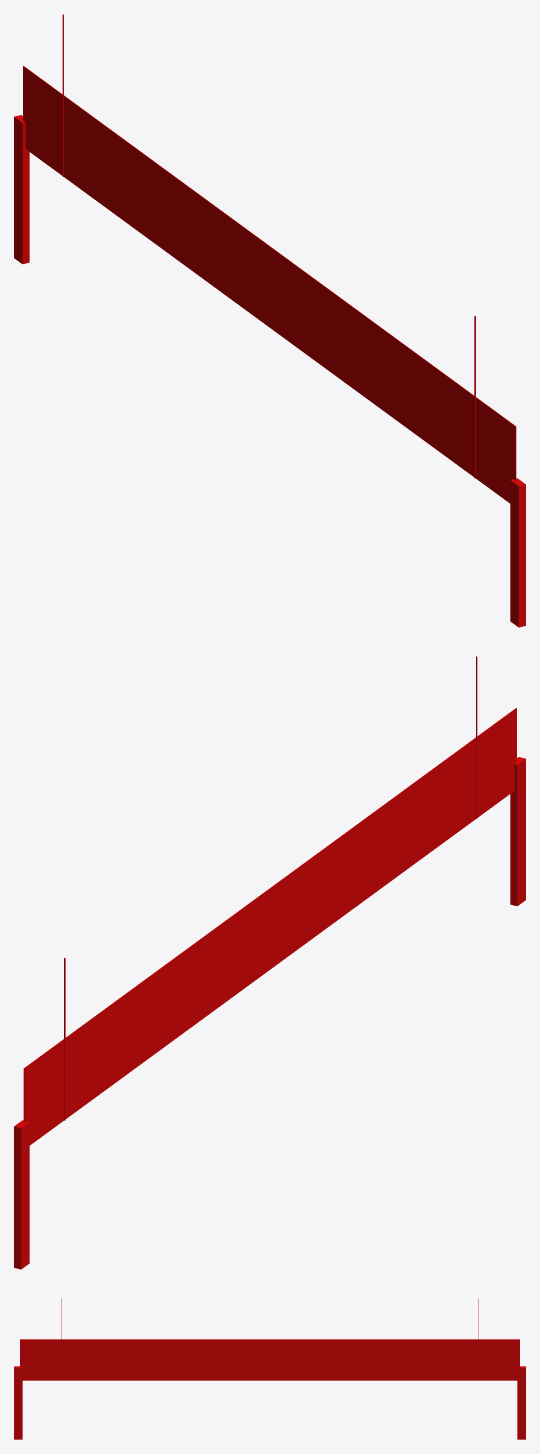
File: MensVeolleyballNetCollision.fbx
The picture shows the model from 3 angles, top to bottom: view 1: azimuth 30°, elevation 25°; view 2: azimuth 150°, elevation 25°; view 3: azimuth 270°, elevation 25°; orthographic projection. The views are drawn at different scales.
Parts seen in each view (by area): view 1: MensVolleyballNetCollision; view 2: MensVolleyballNetCollision; view 3: MensVolleyballNetCollision.
Boxes of the visible parts, x1,y1,x2,y2 form: MensVolleyballNetCollision: (14,14,525,627); MensVolleyballNetCollision: (14,656,525,1269); MensVolleyballNetCollision: (14,1298,525,1439).
Size of the model in its own units: 9.27 by 341 by 1127.
